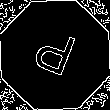P_S: (29, 25, 81, 85)
